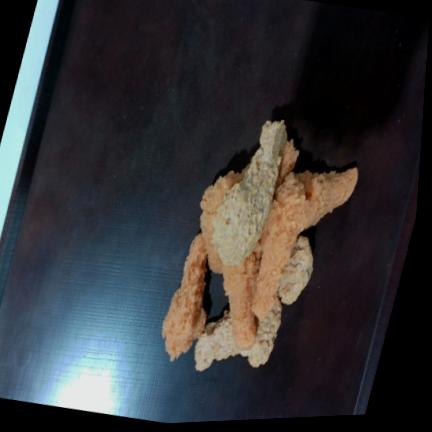chicken: (212, 121, 287, 266), (251, 174, 306, 320), (195, 305, 281, 371), (162, 233, 206, 361), (296, 167, 357, 230), (222, 250, 260, 349), (278, 236, 313, 304)
